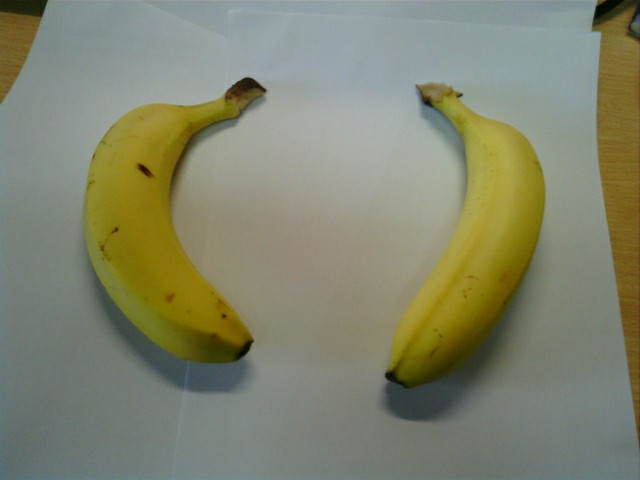fresh_banana: (382, 77, 549, 387)
normal_banana: (87, 74, 263, 365)
